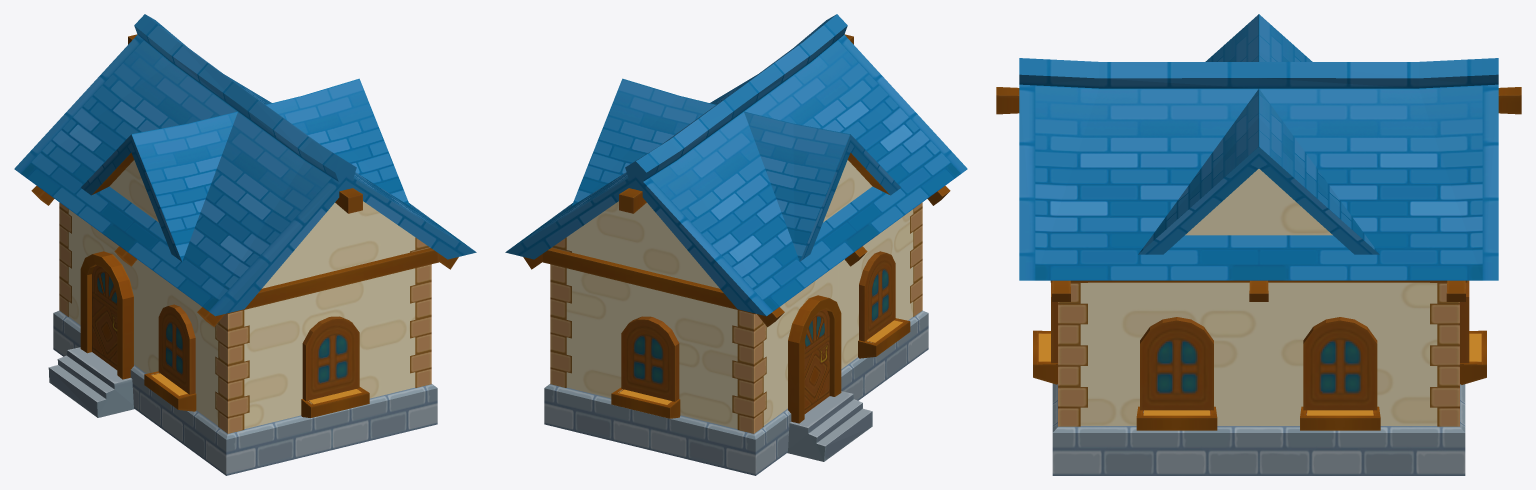
File: BLD0910005.fbx
3 views of the same model, side by side, from view 1: azimuth 30°, elevation 25°; view 2: azimuth 150°, elevation 25°; view 3: azimuth 270°, elevation 25° (orthographic). The views are drawn at different scales.
Parts seen in each view (by area): view 1: smBLD0910005; view 2: smBLD0910005; view 3: smBLD0910005.
Part boxes in pixels (x1=…): smBLD0910005: x1=14, y1=14, x2=476, y2=475; smBLD0910005: x1=505, y1=14, x2=967, y2=475; smBLD0910005: x1=996, y1=14, x2=1521, y2=475.
Size of the model in its own units: 625 by 655 by 872.
1 material, 1 textured.
